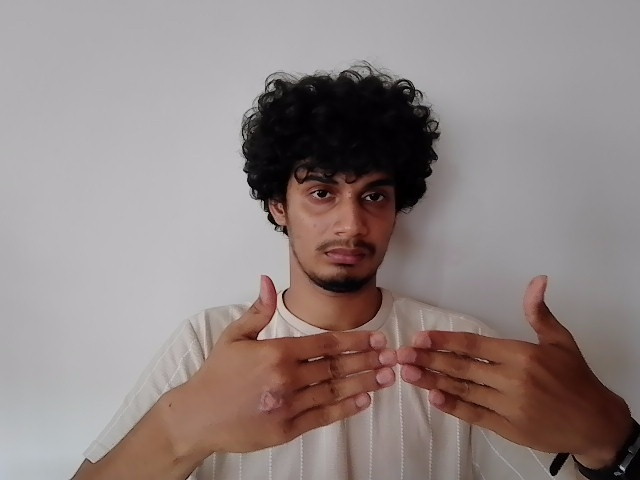family: (163, 272, 615, 458)
